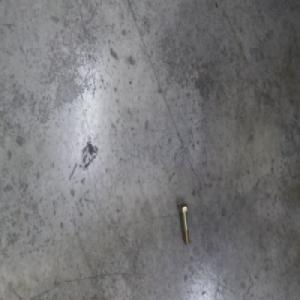Bolt: (175, 202, 188, 247)
